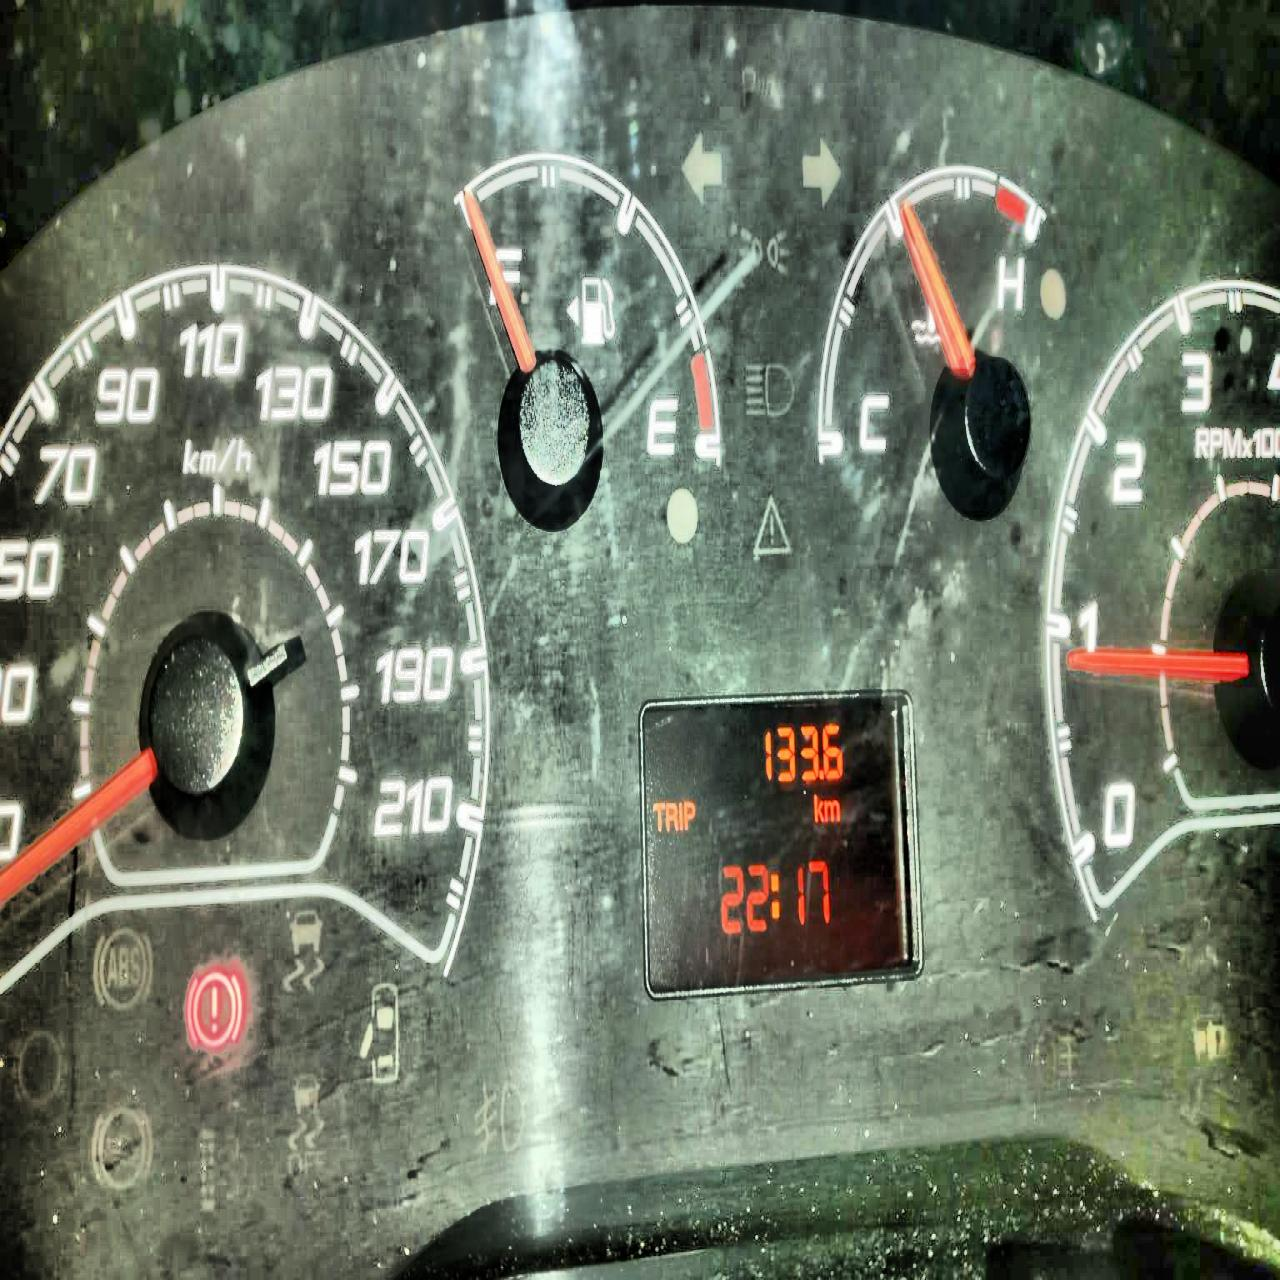-: (818, 769, 824, 779)
1: (796, 864, 805, 925), (764, 729, 771, 781)
2: (720, 864, 743, 933), (745, 863, 768, 931)
3: (799, 724, 818, 779), (777, 726, 795, 781)
6: (821, 723, 843, 779)
7: (808, 859, 830, 922)
X: (769, 873, 779, 920), (663, 802, 678, 831), (682, 798, 695, 830), (823, 798, 839, 822), (653, 801, 665, 832), (813, 791, 823, 822), (678, 801, 682, 830)
odometer: (636, 686, 925, 1001)
